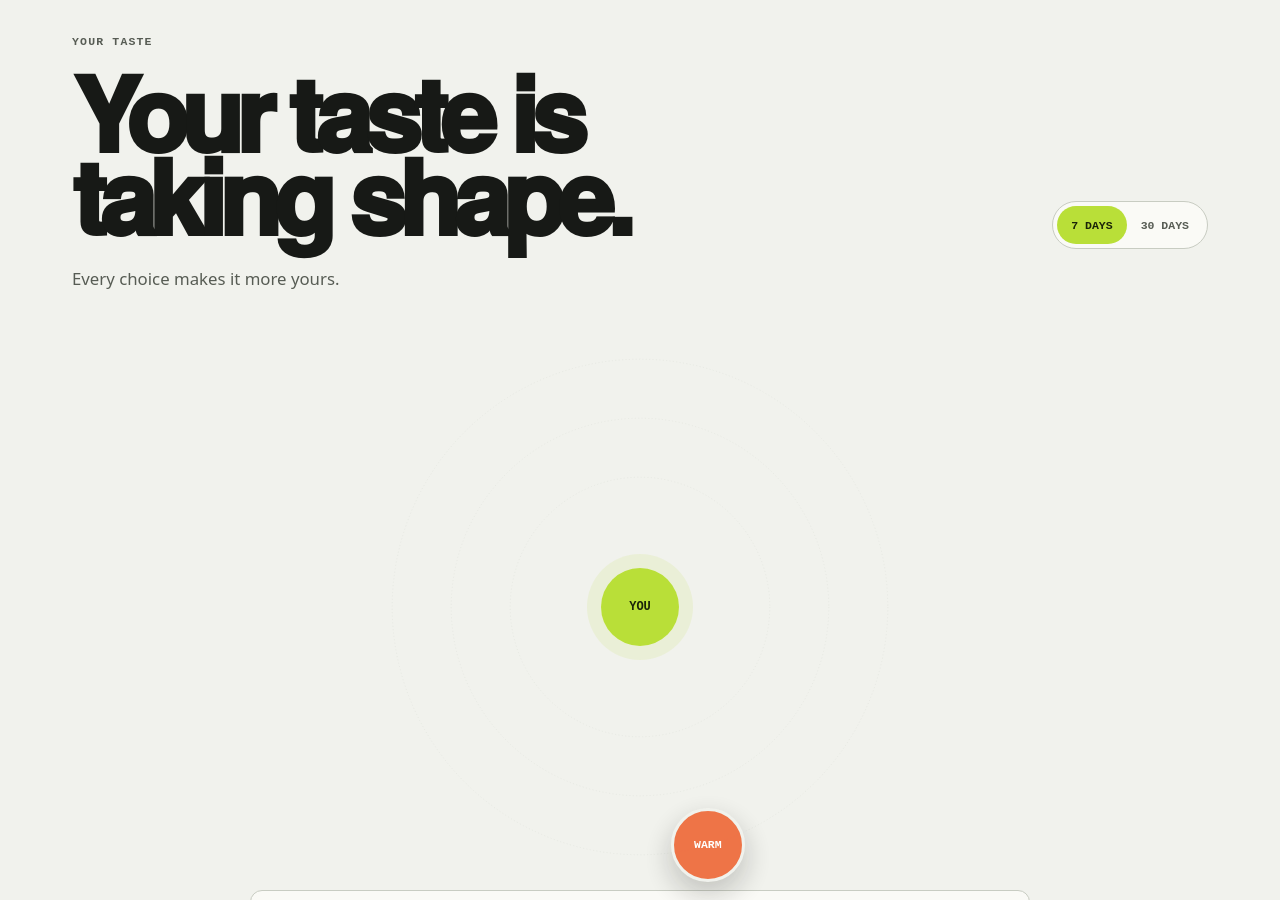
Test case: uses real history and switches between seven and thirty days
Check: the heading "Your taste is taking shape." is shown, box [72, 38, 627, 268]
Check: the button with aria-label "warm, 1 signal" is shown, box [671, 808, 745, 882]
Click the button "30 DAYS" at (1165, 226), box [1127, 206, 1203, 244]
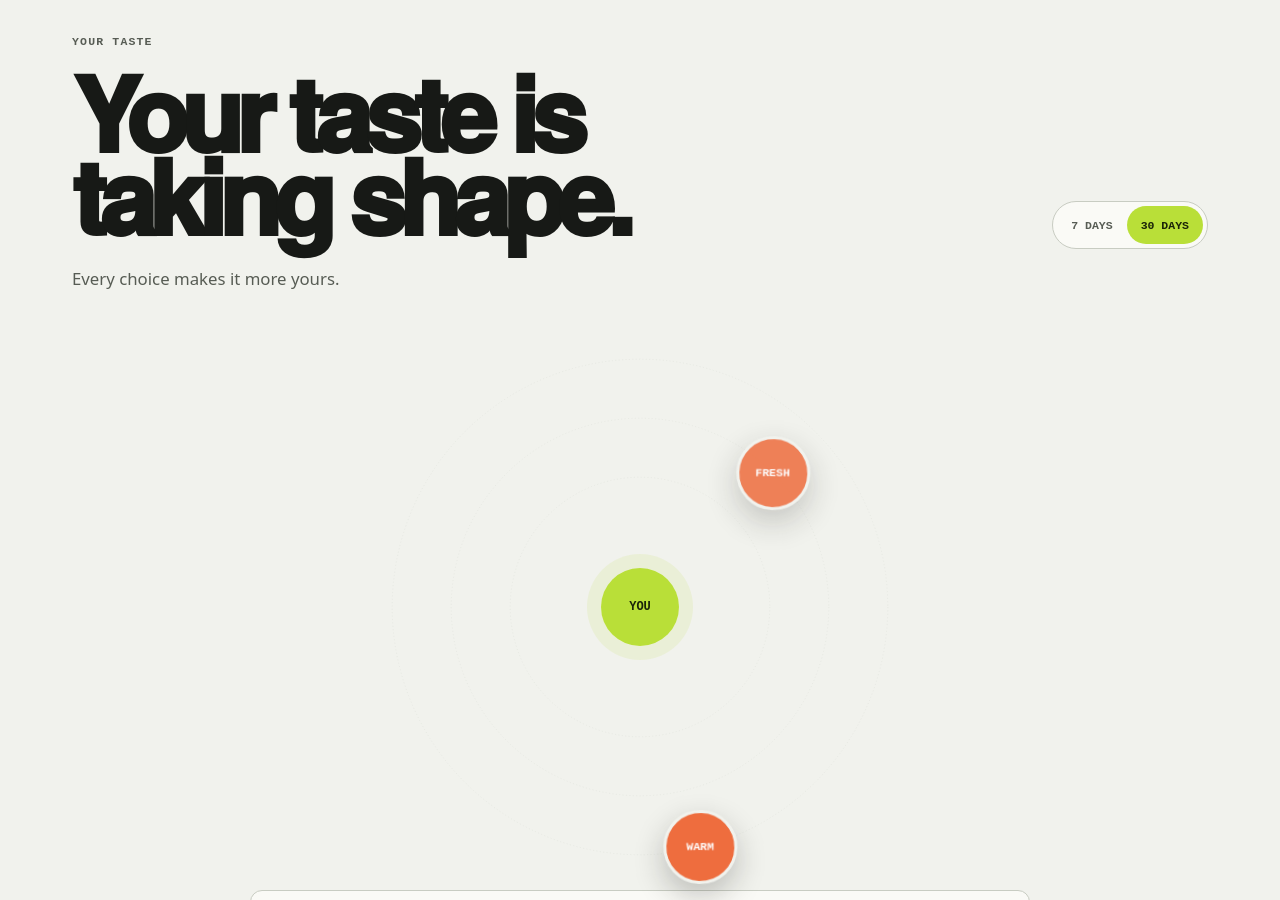
Check: the button with aria-label "fresh, 1 signal" is shown, box [735, 435, 811, 512]
